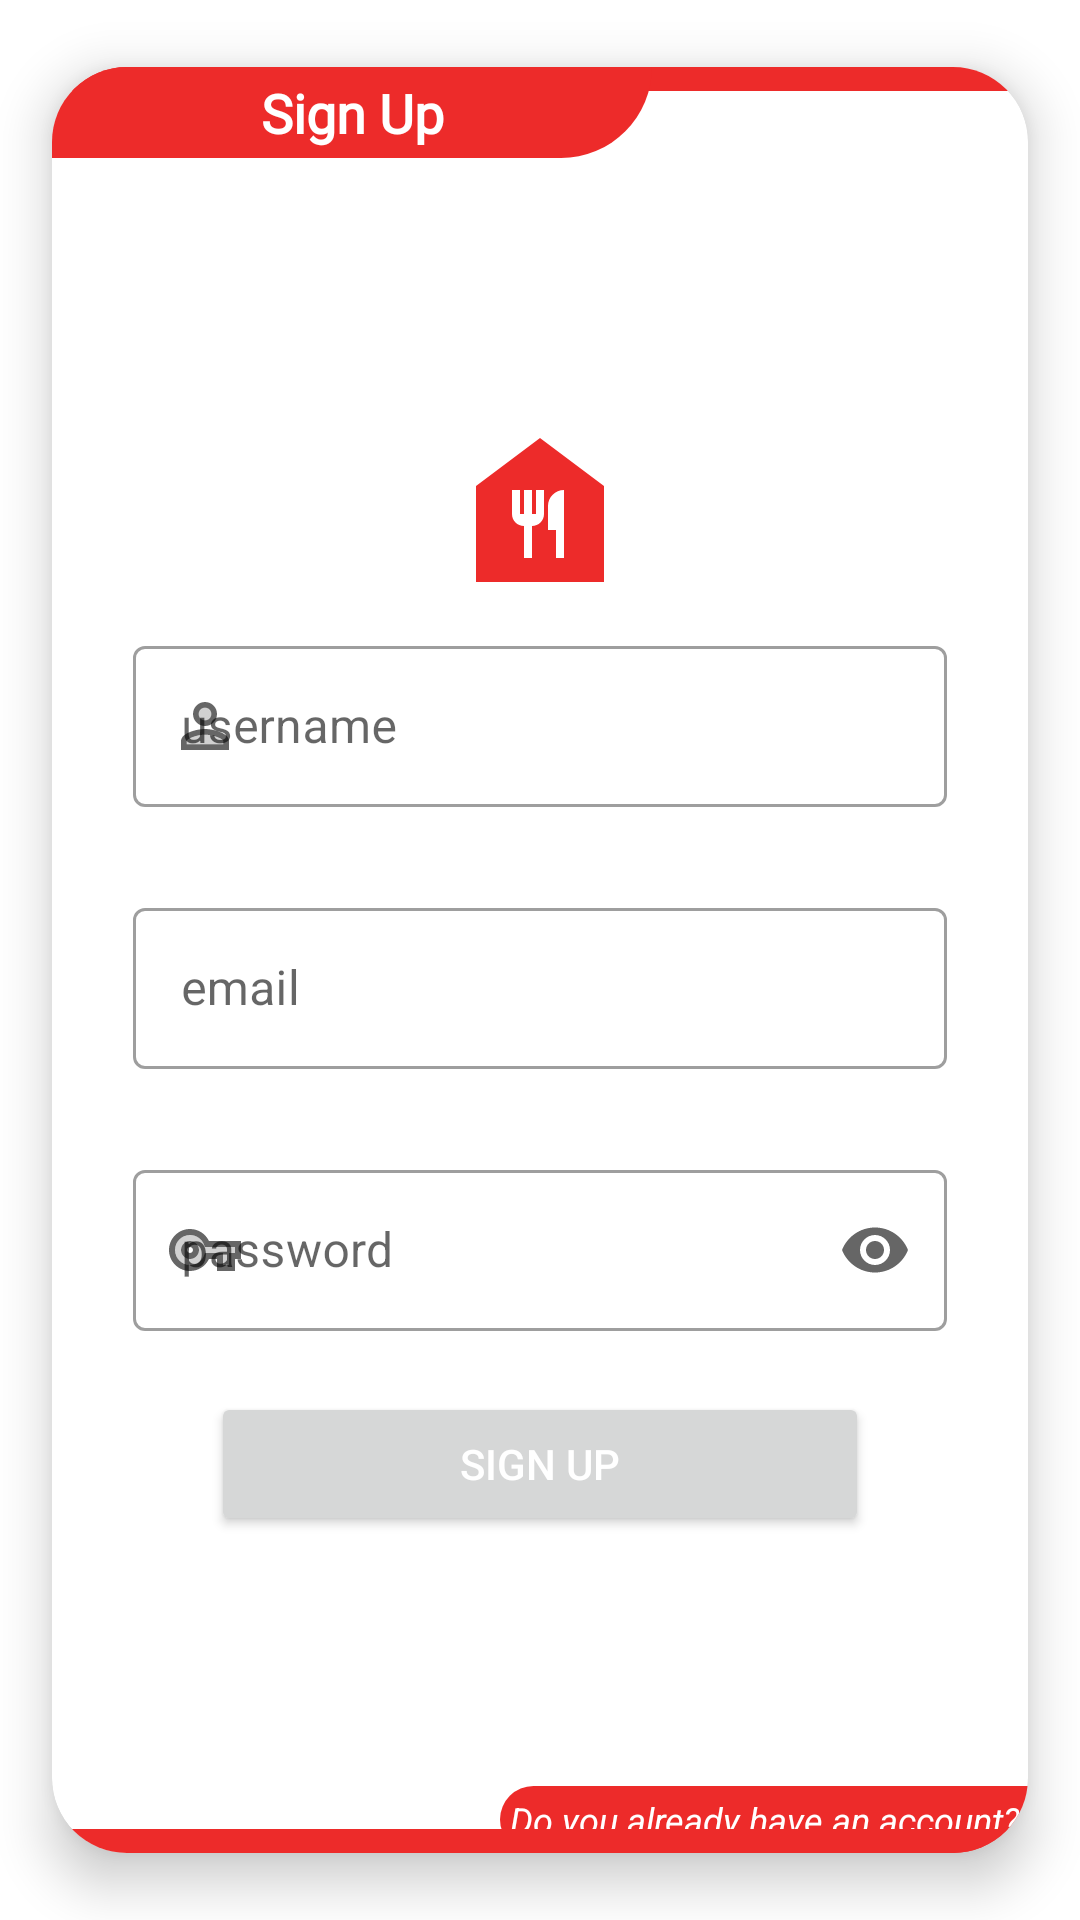

Where to tap for icons on this 1080px x 1920px app screen, as (x,y):
food: (540,510)
